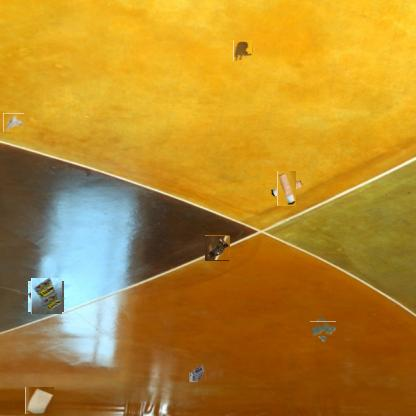dirty: (30, 280, 63, 313), (26, 386, 54, 415), (273, 175, 301, 202), (205, 236, 229, 260), (3, 113, 24, 132), (187, 363, 206, 383)
liquid: (313, 319, 334, 339), (233, 40, 253, 61)
